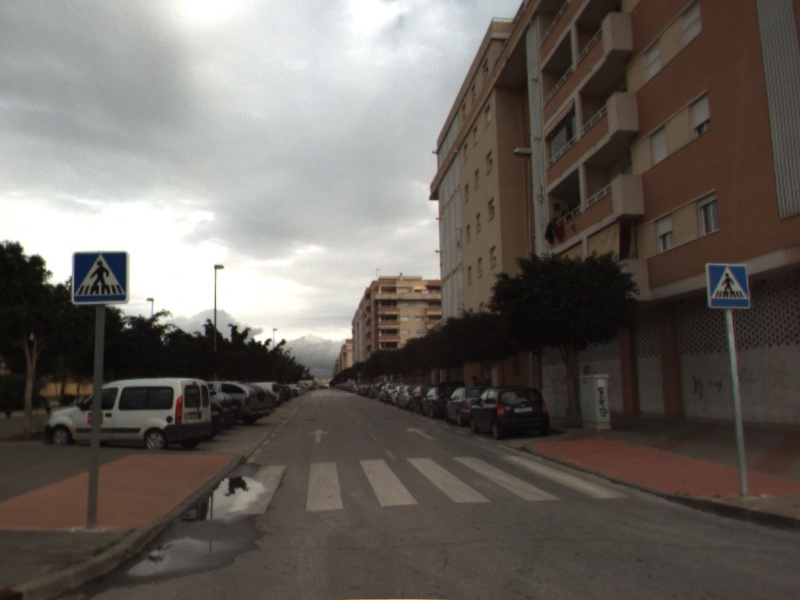STRAIGHT: (404, 425, 438, 442), (306, 427, 331, 445)
